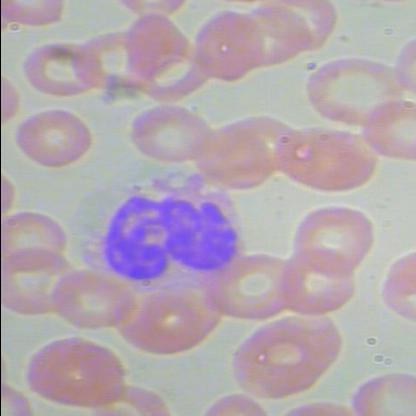RBC: (20, 335, 132, 412), (296, 53, 403, 131), (196, 250, 302, 328), (278, 127, 378, 198), (289, 205, 381, 279), (279, 244, 359, 322), (10, 104, 94, 173), (123, 100, 207, 169), (16, 36, 100, 104), (190, 6, 260, 84), (48, 268, 136, 329), (1, 209, 70, 271), (359, 98, 415, 166)
WBC: (71, 164, 255, 298)
